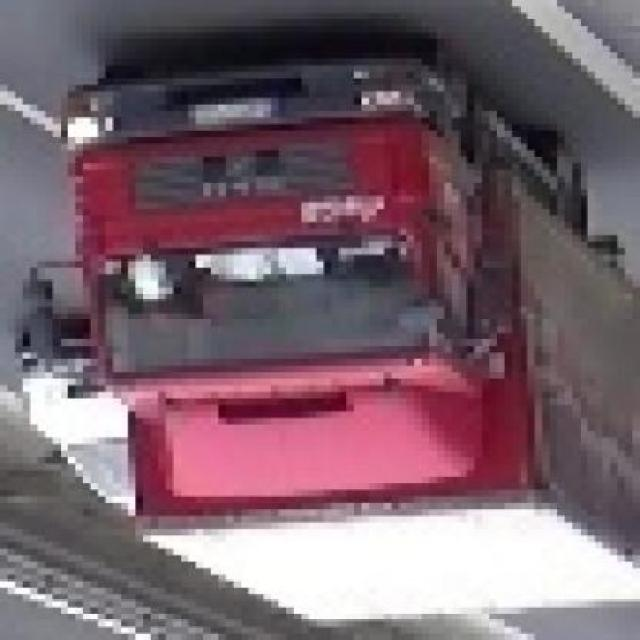truck: (16, 59, 634, 635)
